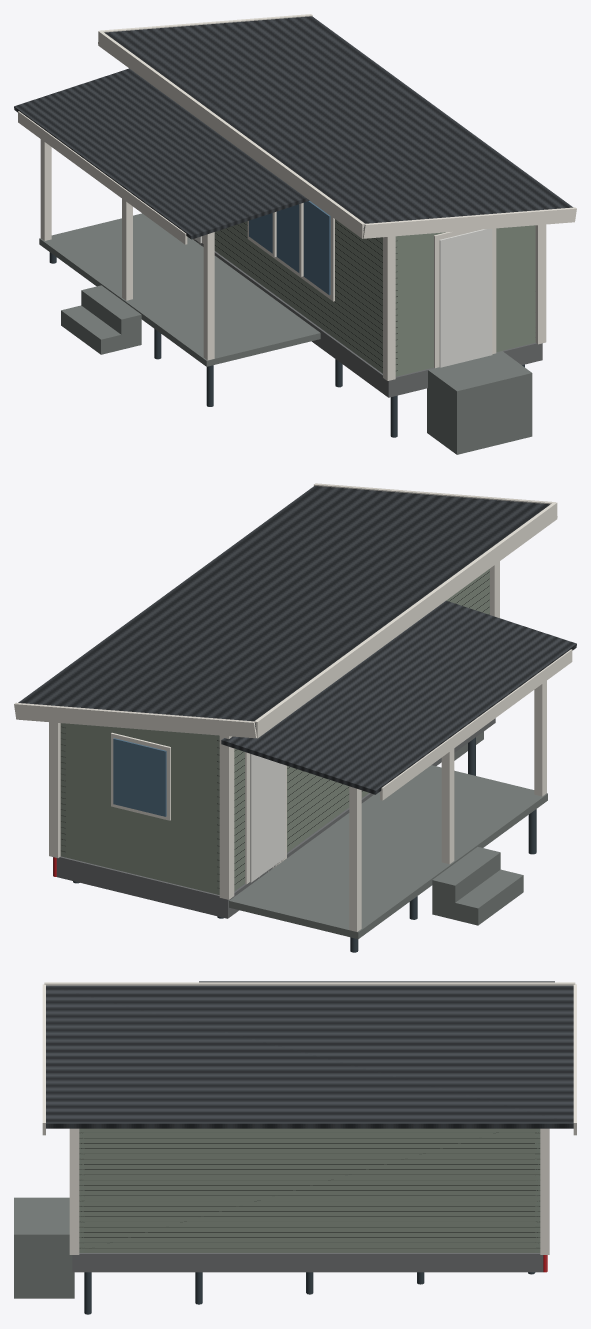
File: masterskaya.glb
3 renders of one model, top to bottom at view 1: azimuth 30°, elevation 25°; view 2: azimuth 150°, elevation 25°; view 3: azimuth 270°, elevation 25°, orthographic. The views are drawn at different scales.
Size of the model in its own units: 5.69 by 3.97 by 8.37.
Materials: 10 (2 with a texture image).
